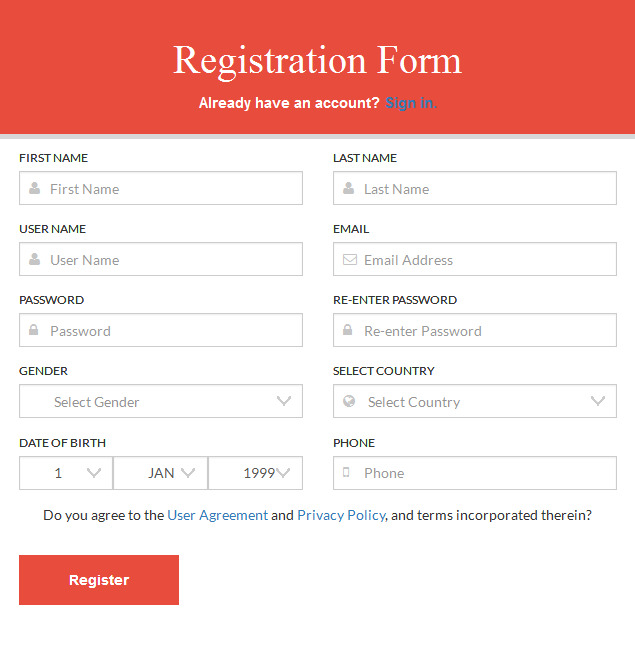_form_: (1, 121, 416, 537), (316, 123, 635, 535), (1, 236, 318, 648)
button: (18, 554, 180, 605)
field: (16, 240, 304, 277), (332, 311, 619, 348), (332, 454, 618, 491), (330, 170, 618, 206), (332, 241, 619, 277), (332, 383, 618, 419), (18, 169, 302, 205), (18, 384, 305, 419), (18, 312, 304, 347), (18, 455, 114, 491), (208, 455, 303, 491), (114, 455, 208, 491)
field_with_label: (13, 222, 305, 280), (15, 366, 307, 422), (330, 223, 621, 279), (16, 152, 305, 208), (328, 152, 619, 207), (330, 366, 620, 421), (329, 438, 618, 493), (329, 296, 621, 350), (16, 295, 306, 348), (15, 437, 116, 493)
